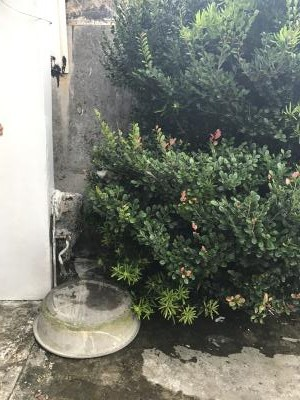bowl: (30, 277, 143, 363)
